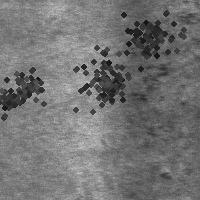rolled-in_scale: (52, 30, 150, 128), (112, 0, 184, 68), (123, 39, 168, 136), (0, 56, 54, 110), (86, 62, 126, 102), (0, 77, 26, 117)
